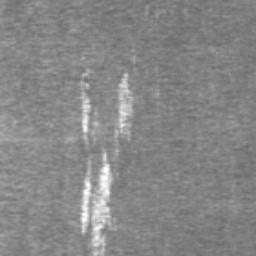White rust: (80, 149, 116, 256), (113, 67, 134, 142), (80, 66, 95, 145)
